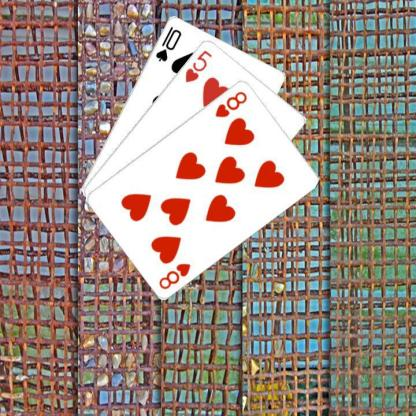10S: (152, 23, 182, 63)
5H: (182, 47, 213, 83)
8H: (156, 260, 192, 291), (212, 88, 248, 118)
